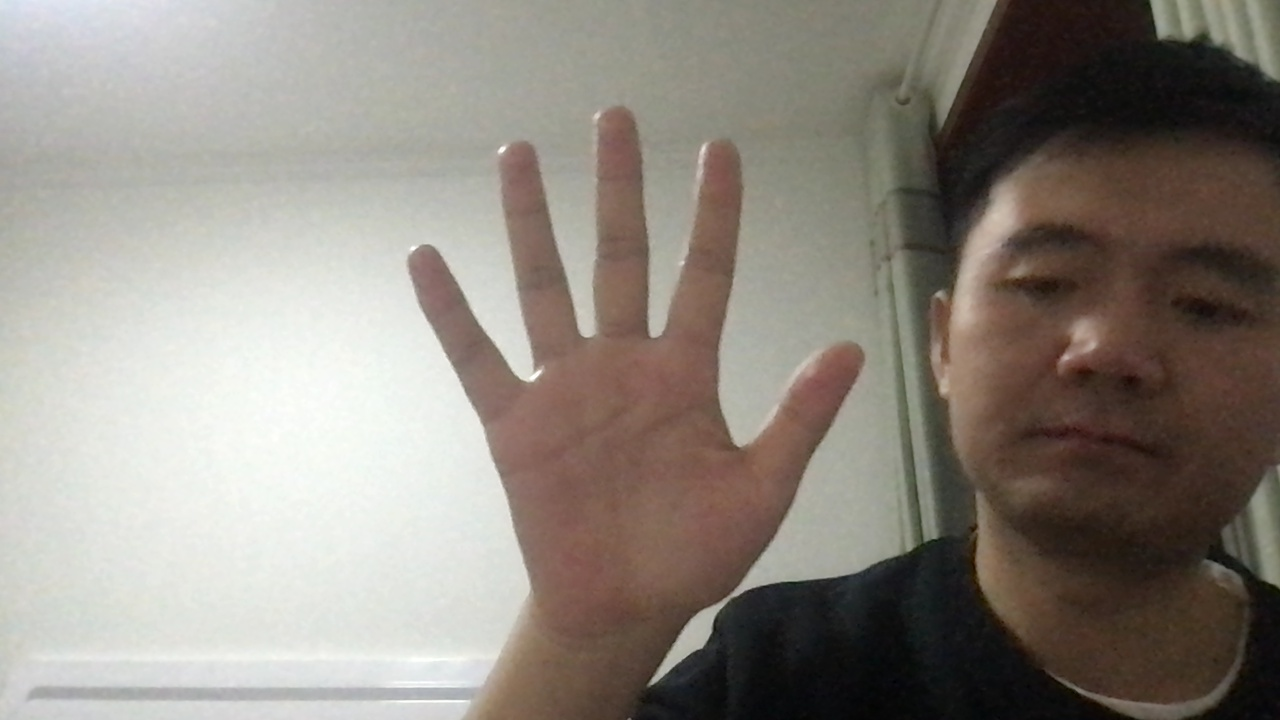hello: (395, 101, 867, 614)
